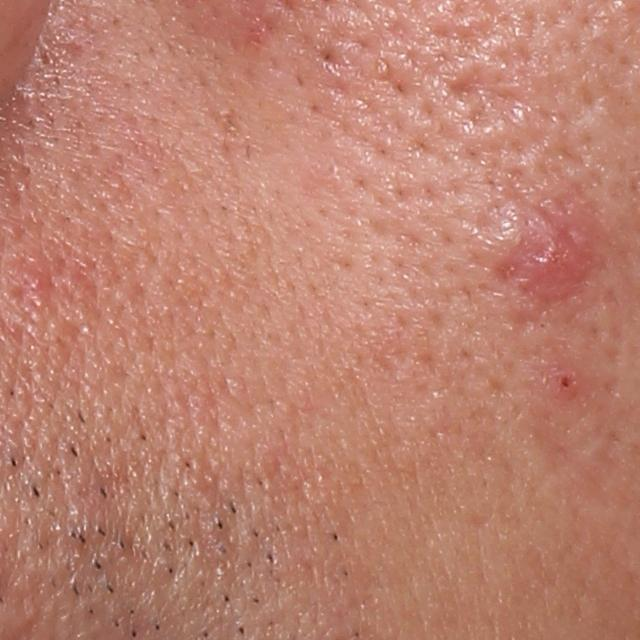atrophic_scar: (443, 61, 529, 139)
papule: (508, 215, 605, 298), (549, 358, 590, 400)
